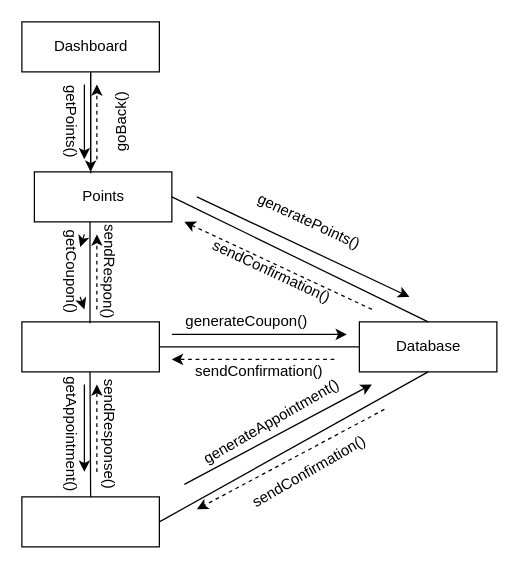
The diagram is 519 pixels wide and 569 high, and some of its shapes have lost their labels. The shapes that lost their labels are listed below. From the top down, each one's centre as x and y in pixels, then its label:
the point at 90,346: Coupon
the point at 90,521: Appointment
